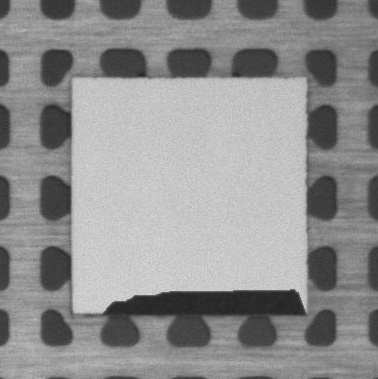DIE_BROKEN: (99, 288, 309, 317)
